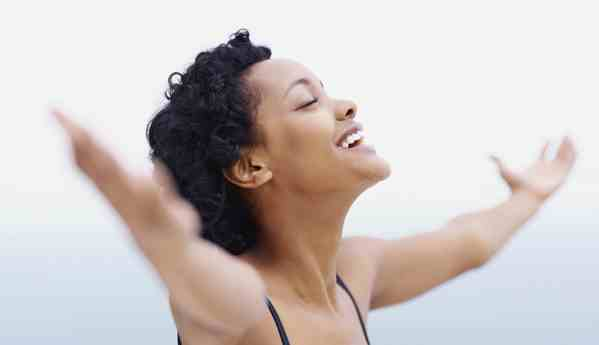happy: (244, 64, 398, 213)
